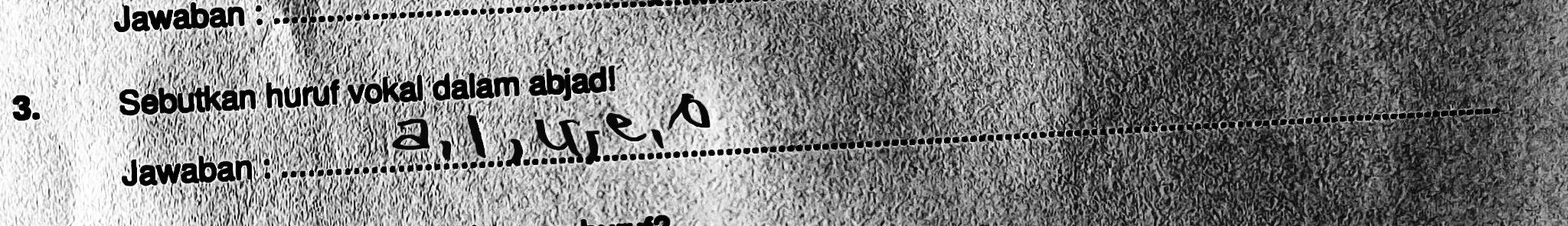jawaban: (390, 84, 718, 162)
